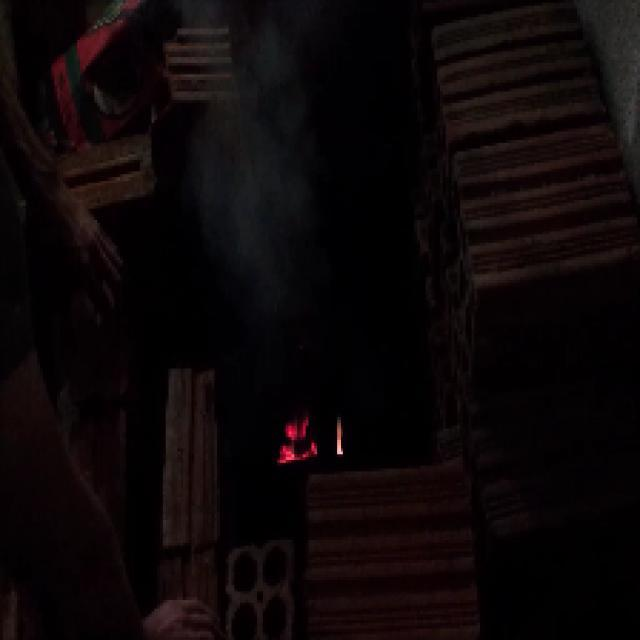Smoke: (267, 416, 348, 466)
